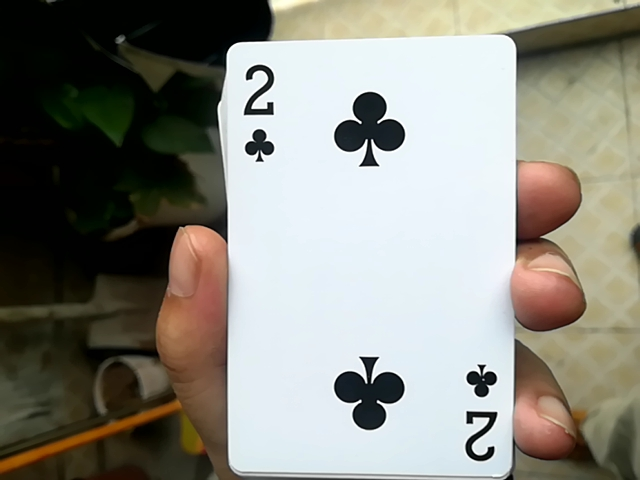mh 2: (210, 30, 520, 478)
